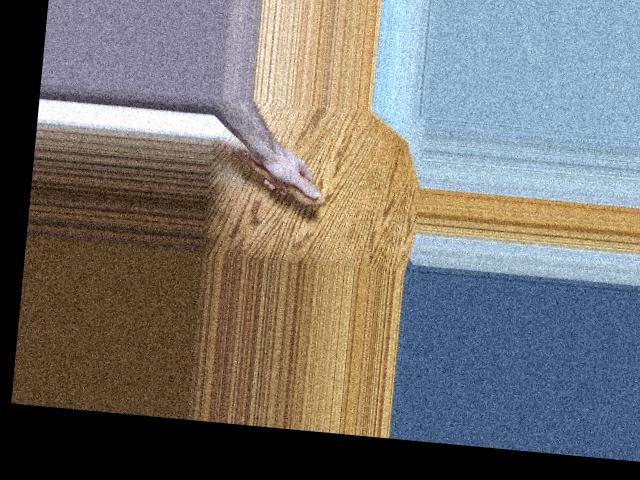sweet_potato: (218, 142, 330, 210)
